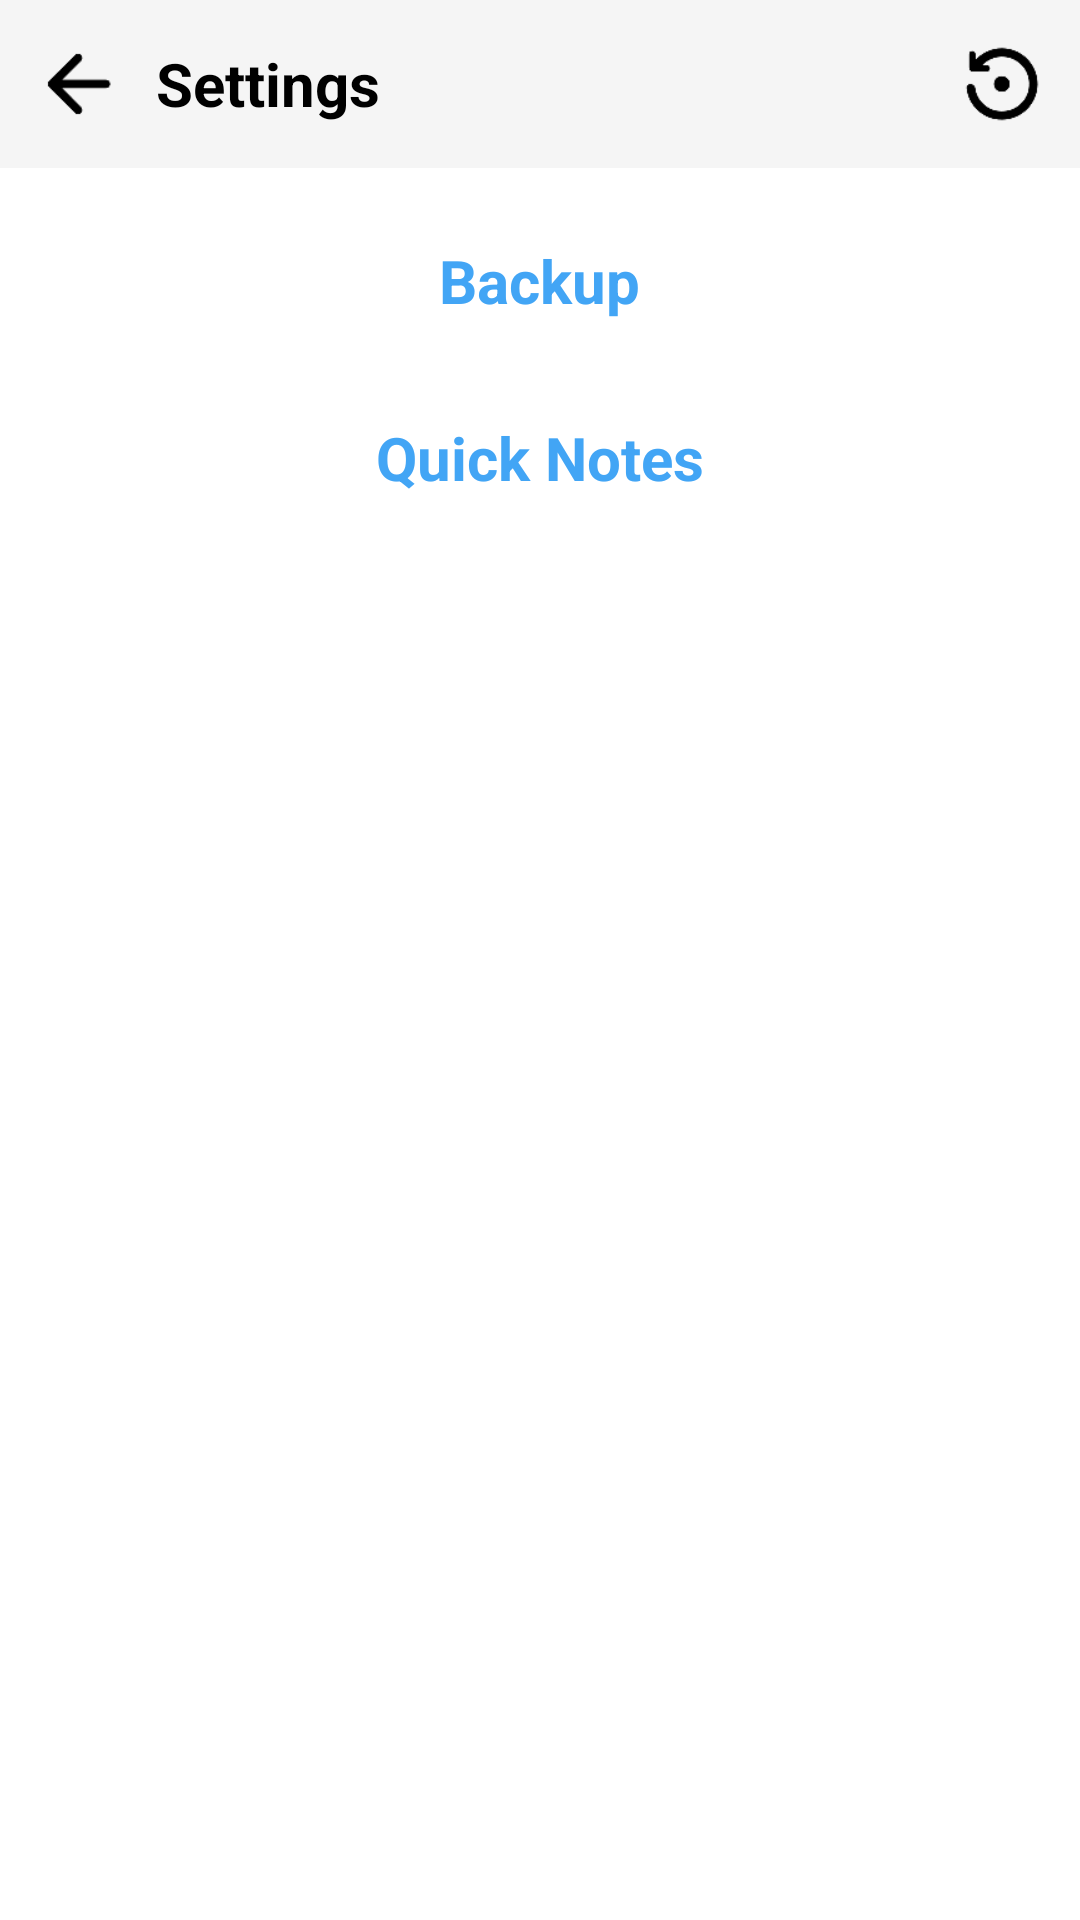

Icons on this 1080px x 1920px Android screen, each with its box as region(x1, y1, x2, y2):
arrow back: region(47, 54, 111, 115)
